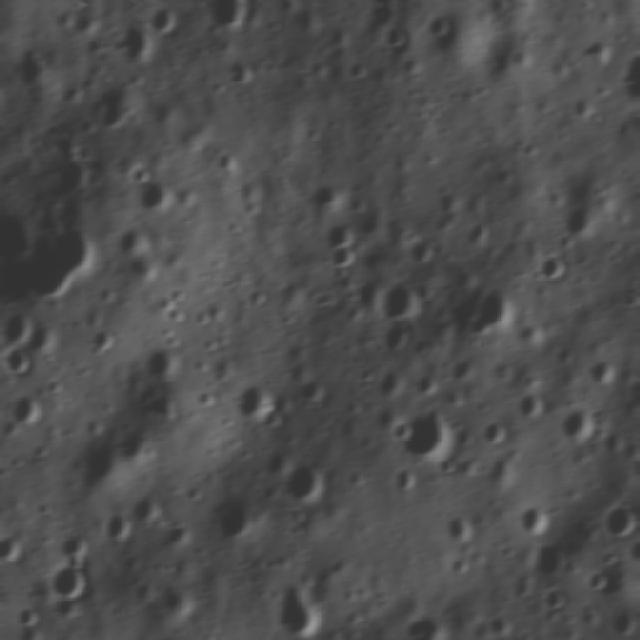crater: (258, 579, 331, 632), (394, 398, 457, 458), (465, 277, 520, 335), (86, 74, 137, 131), (280, 453, 328, 501), (212, 487, 256, 539), (378, 271, 422, 318), (345, 272, 387, 316), (565, 191, 604, 238), (113, 18, 152, 64), (142, 340, 182, 382), (27, 309, 65, 353), (52, 558, 93, 598), (8, 386, 47, 428), (304, 177, 348, 214), (562, 402, 600, 444), (236, 368, 267, 419), (136, 172, 176, 210), (532, 532, 568, 573), (598, 501, 640, 536), (482, 450, 520, 488), (4, 339, 38, 381), (443, 508, 480, 546), (132, 482, 165, 524), (588, 351, 626, 387), (221, 51, 256, 88), (164, 510, 198, 547), (3, 301, 32, 344), (380, 315, 414, 351), (143, 5, 180, 38), (320, 216, 355, 250), (160, 578, 191, 616), (521, 498, 554, 533), (516, 387, 550, 419), (100, 506, 131, 540), (544, 244, 571, 282), (88, 320, 115, 357), (540, 577, 571, 609), (482, 411, 512, 444), (380, 18, 411, 48), (329, 239, 362, 267), (485, 609, 518, 633), (583, 562, 611, 590), (424, 6, 450, 34), (390, 414, 413, 444), (448, 550, 470, 575), (598, 543, 618, 565)
